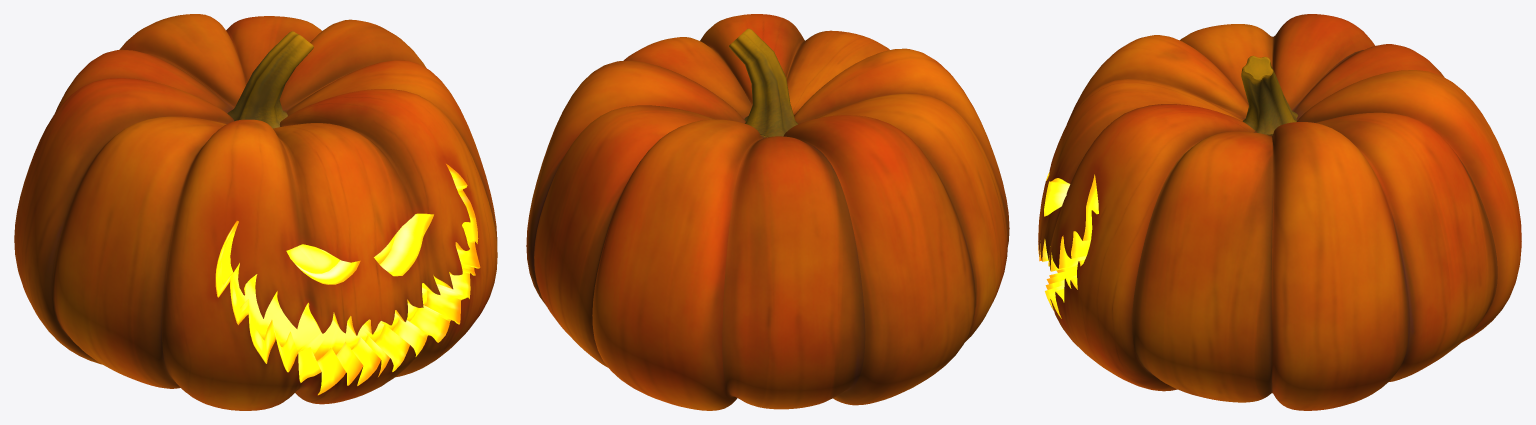
Rendered from Pumpkin.fbx.
The picture shows the model from 3 angles, left to right: view 1: azimuth 30°, elevation 25°; view 2: azimuth 150°, elevation 25°; view 3: azimuth 270°, elevation 25°; orthographic projection.
Parts seen in each view (by area): view 1: Pumpkin; view 2: Pumpkin; view 3: Pumpkin.
Part boxes in pixels (box(x1,y1,x2,y2)): Pumpkin: box(14, 14, 497, 410); Pumpkin: box(526, 14, 1009, 410); Pumpkin: box(1038, 14, 1521, 410).
Size of the model in its own units: 537 by 383 by 539.
